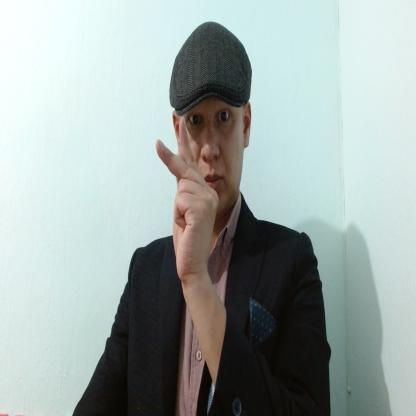P: (154, 114, 220, 279)
